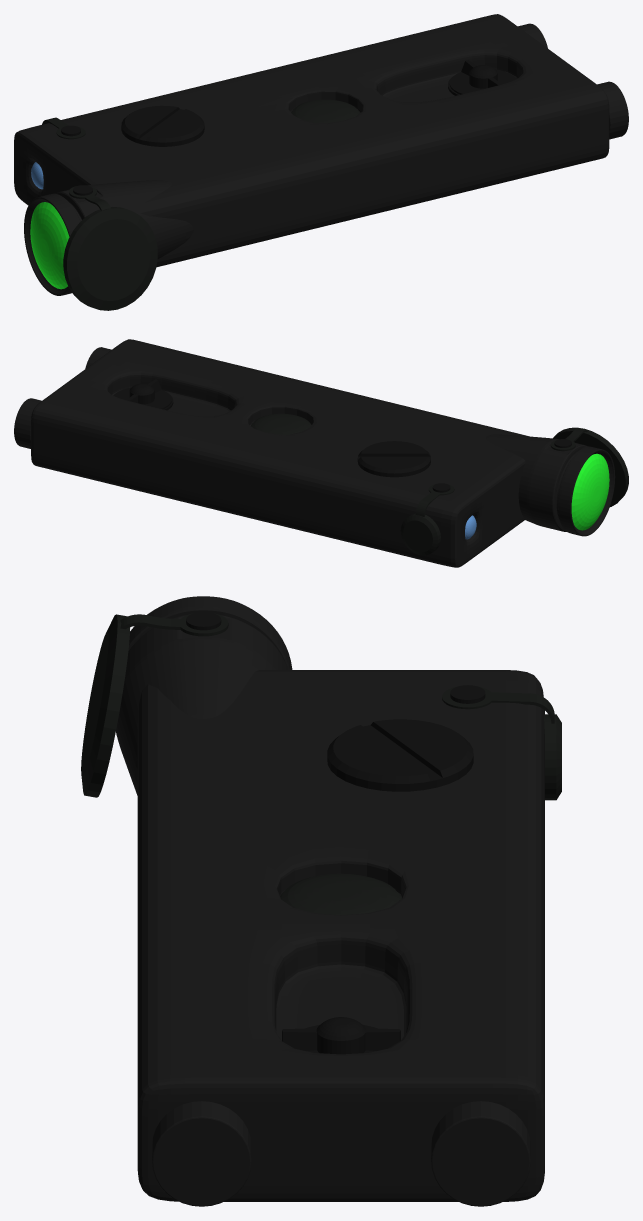
The model's file is Laser_Sight.obj.
3 renders of one model, top to bottom at view 1: azimuth 30°, elevation 25°; view 2: azimuth 150°, elevation 25°; view 3: azimuth 270°, elevation 25°, orthographic. The views are drawn at different scales.
Parts seen in each view (by area): view 1: Cube_Cube.001, Cylinder.010_Cylinder.011, Cylinder, Cylinder.011_Cylinder.012, Cylinder.012_Cylinder.013, Cylinder.001, Cylinder.002, Cylinder.003; view 2: Cube_Cube.001, Cylinder, Cylinder.011_Cylinder.012, Cylinder.012_Cylinder.013, Cylinder.010_Cylinder.011, Cylinder.007_Cylinder.008, Cylinder.001, Cylinder.002, Cylinder.004, Cylinder.006_Cylinder.007; view 3: Cube_Cube.001, Cylinder, Cylinder.004, Cylinder.003, Cylinder.011_Cylinder.012, Cylinder.010_Cylinder.011, Cylinder.002, Cylinder.001, Cylinder.007_Cylinder.008, Cylinder.006_Cylinder.007, Cylinder.009_Cylinder.010.
Boxes of the visible parts, box(x1,y1,x2,y2) form: Cube_Cube.001: box(14, 14, 609, 267); Cylinder.010_Cylinder.011: box(63, 207, 157, 310); Cylinder: box(24, 180, 193, 295); Cylinder.011_Cylinder.012: box(121, 105, 204, 146); Cylinder.012_Cylinder.013: box(30, 202, 69, 289); Cylinder.001: box(448, 60, 515, 95); Cylinder.002: box(291, 99, 359, 122); Cylinder.003: box(597, 81, 628, 139); Cube_Cube.001: box(31, 339, 529, 567); Cylinder: box(485, 434, 615, 536); Cylinder.011_Cylinder.012: box(357, 441, 430, 477); Cylinder.012_Cylinder.013: box(571, 453, 609, 530); Cylinder.010_Cylinder.011: box(553, 427, 628, 506); Cylinder.007_Cylinder.008: box(400, 513, 440, 555); Cylinder.001: box(113, 379, 173, 410); Cylinder.002: box(251, 413, 311, 434); Cylinder.004: box(14, 398, 41, 448); Cylinder.006_Cylinder.007: box(415, 484, 454, 516); Cube_Cube.001: box(137, 670, 544, 1201); Cylinder: box(116, 596, 292, 795); Cylinder.004: box(431, 1101, 530, 1206); Cylinder.003: box(152, 1101, 251, 1206); Cylinder.011_Cylinder.012: box(327, 719, 473, 791); Cylinder.010_Cylinder.011: box(81, 614, 130, 797); Cylinder.002: box(280, 873, 401, 915); Cylinder.001: box(282, 1017, 400, 1054); Cylinder.007_Cylinder.008: box(544, 714, 561, 800); Cylinder.006_Cylinder.007: box(442, 686, 554, 723); Cylinder.009_Cylinder.010: box(120, 613, 228, 636).
Size of the model in its own units: 11.76 by 2.01 by 4.82.
